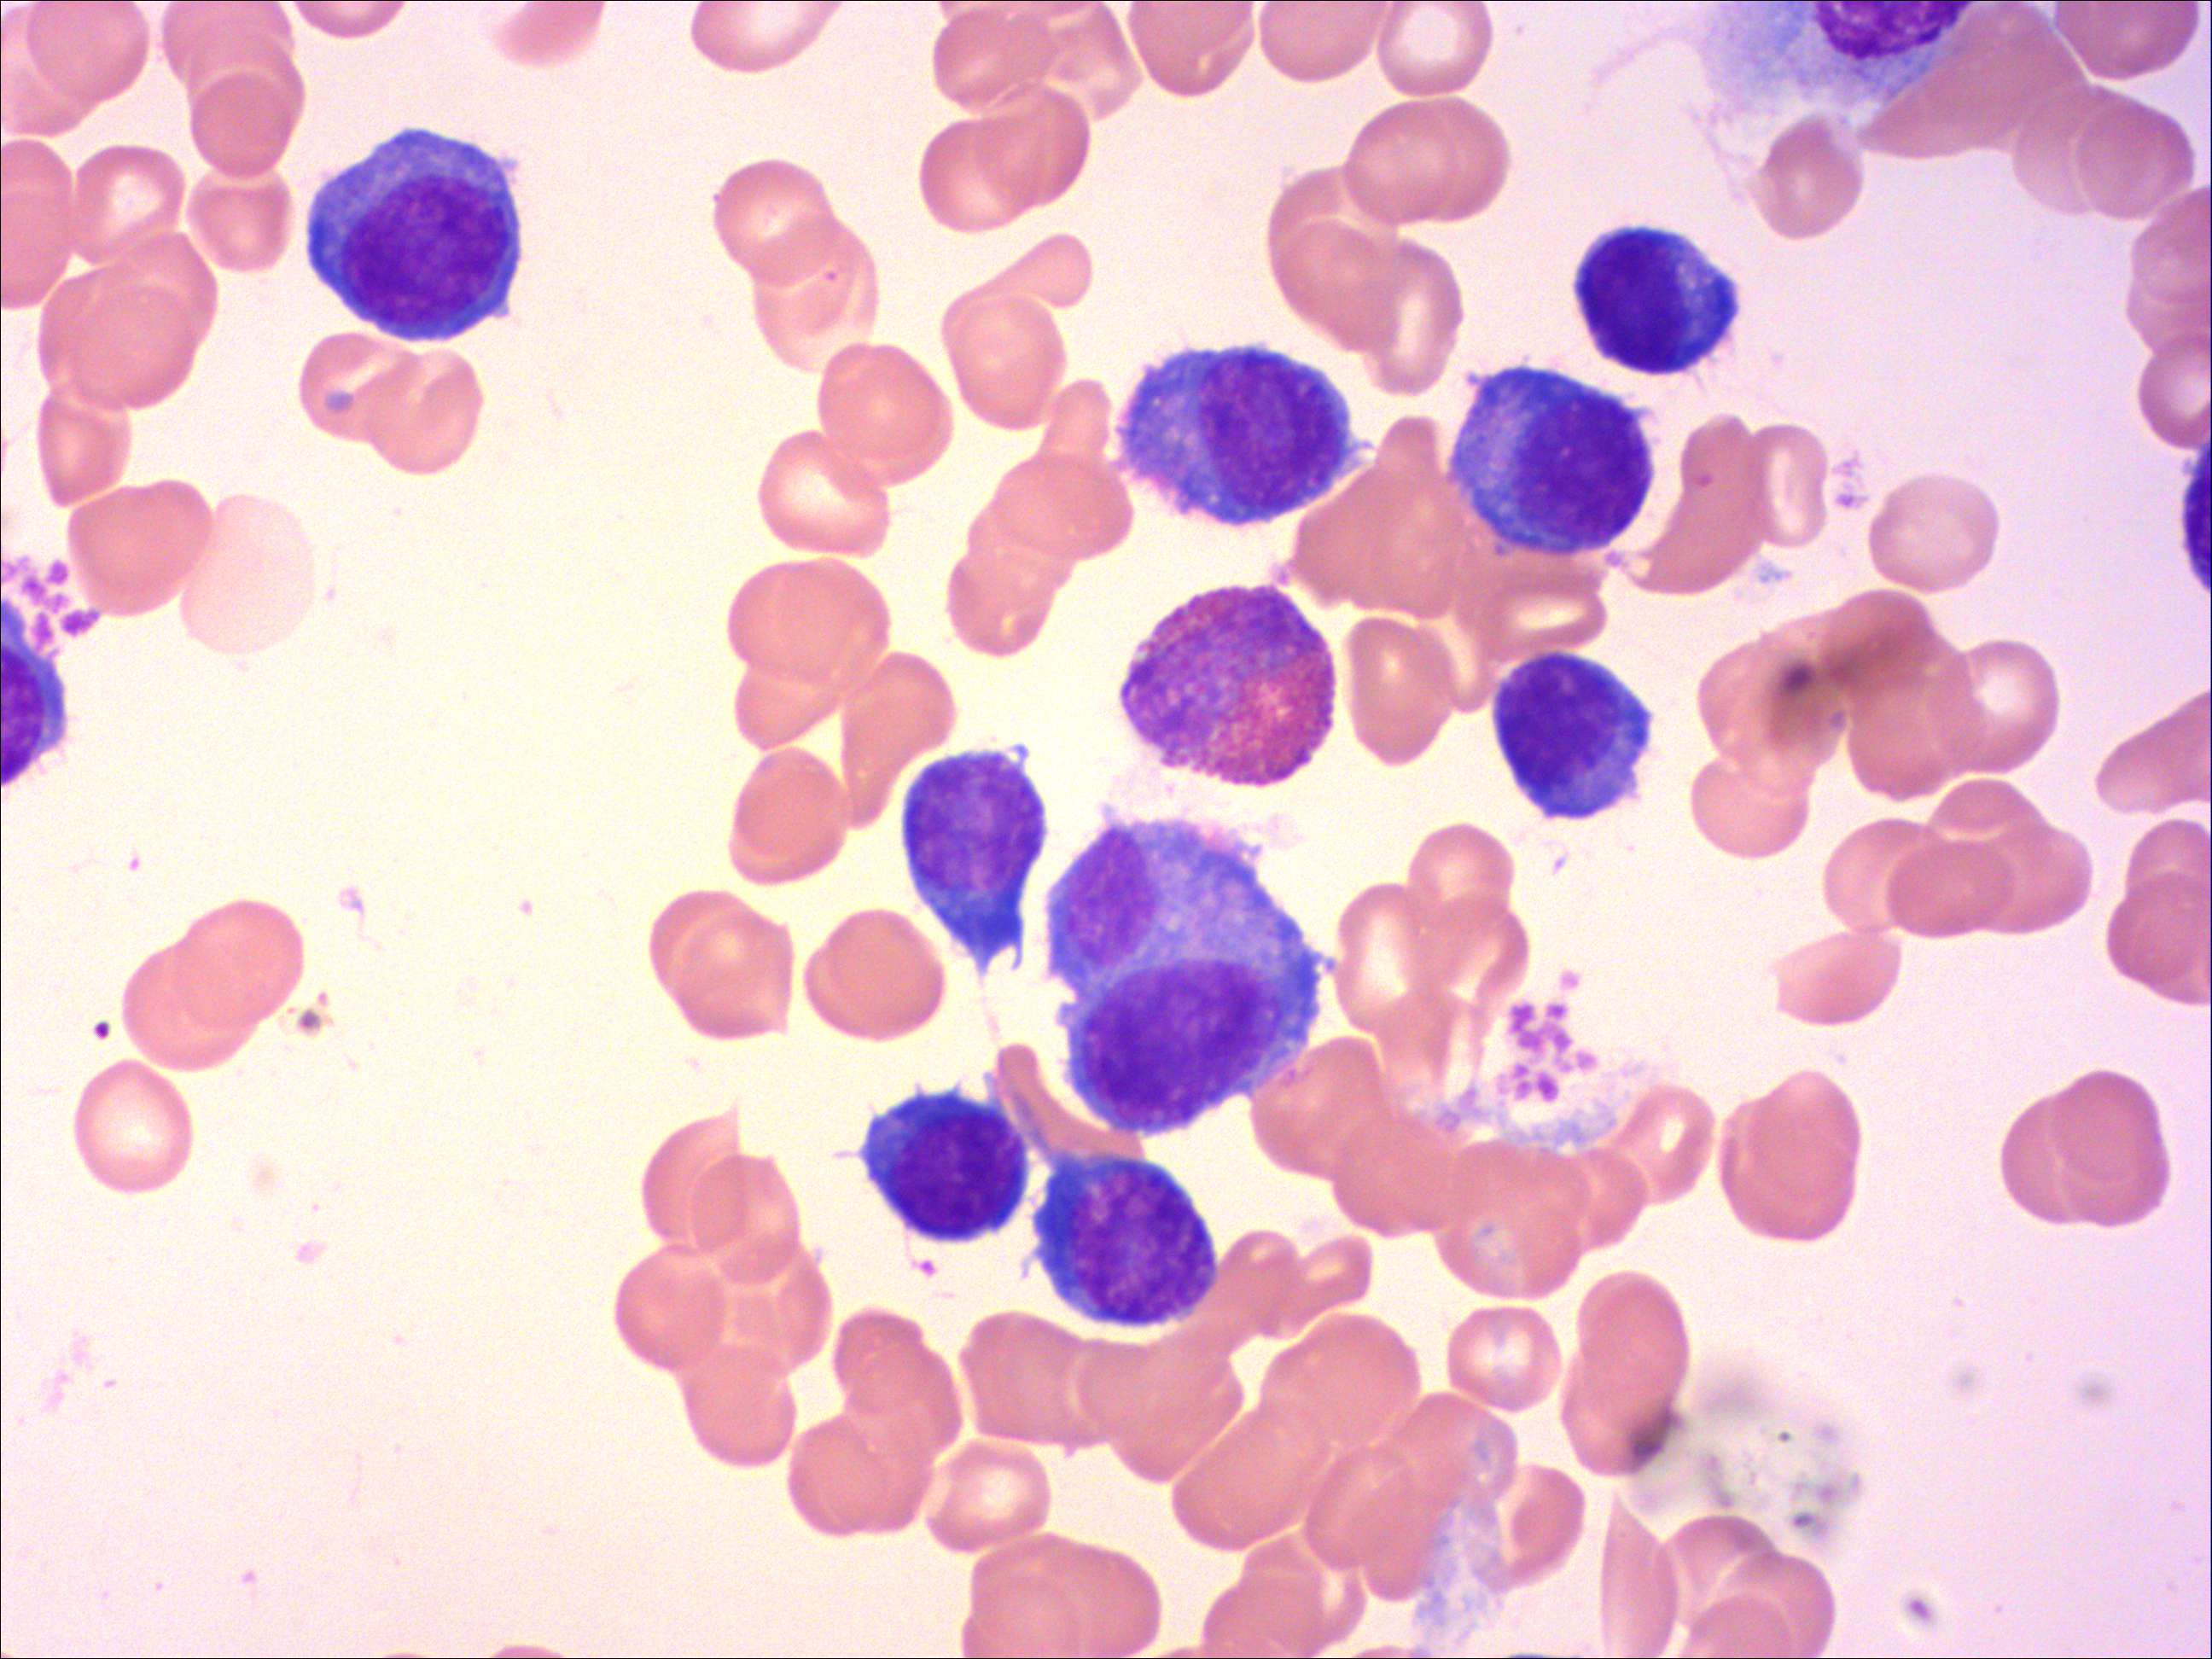51: (1104, 336, 1369, 535), (301, 124, 528, 352), (1439, 357, 1658, 565), (1071, 950, 1285, 1140), (895, 741, 1057, 986), (1031, 1143, 1221, 1333), (850, 1080, 1033, 1249), (1489, 648, 1658, 826), (1566, 220, 1743, 382), (1038, 817, 1172, 976)
E3: (1113, 577, 1339, 793)
x: (1709, 0, 1972, 113), (0, 591, 75, 803)
